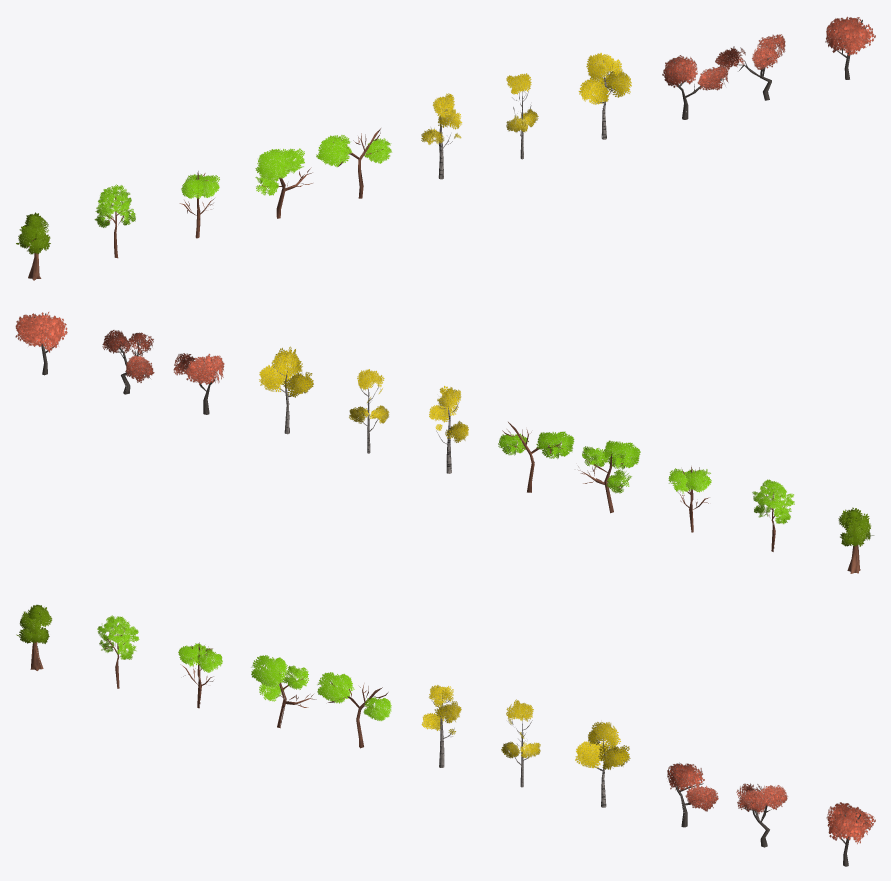
The model's file is trees.glb.
3 views of the same model, one above another, from view 1: azimuth 30°, elevation 25°; view 2: azimuth 150°, elevation 25°; view 3: azimuth 330°, elevation 25° (orthographic).
Parts seen in each view (by area): view 1: birch-2, green-2, green-3, maple-0, maple-1, maple-2, green-0, birch-0, common-0, birch-1, green-1; view 2: green-2, birch-2, maple-1, green-3, maple-2, maple-0, birch-0, green-0, common-0, birch-1, green-1; view 3: birch-2, green-2, green-3, maple-0, maple-2, maple-1, green-0, birch-0, common-0, birch-1, green-1.
Part boxes in pixels (x1,y1,x2,y2): birch-2: [578, 52, 631, 139]; green-2: [255, 148, 312, 218]; green-3: [316, 128, 392, 198]; maple-0: [662, 55, 728, 119]; maple-1: [715, 34, 785, 100]; maple-2: [825, 16, 875, 79]; green-0: [94, 184, 135, 258]; birch-0: [421, 93, 462, 179]; common-0: [16, 212, 50, 280]; birch-1: [506, 73, 538, 159]; green-1: [179, 171, 219, 238]; green-2: [578, 440, 640, 513]; birch-2: [259, 346, 313, 434]; maple-1: [102, 330, 154, 394]; green-3: [498, 422, 574, 492]; maple-2: [15, 311, 67, 375]; maple-0: [173, 353, 224, 414]; birch-0: [429, 385, 468, 473]; green-0: [752, 479, 794, 551]; common-0: [838, 507, 873, 573]; birch-1: [349, 369, 389, 453]; green-1: [668, 466, 711, 532]; birch-2: [575, 720, 630, 807]; green-2: [251, 655, 316, 728]; green-3: [317, 672, 391, 748]; maple-0: [667, 762, 718, 827]; maple-2: [826, 802, 875, 866]; maple-1: [736, 783, 788, 847]; green-0: [97, 615, 139, 688]; birch-0: [421, 685, 461, 767]; common-0: [16, 604, 51, 670]; birch-1: [501, 699, 540, 787]; green-1: [178, 642, 222, 708].
Bounding box in the file's own units: 106 × 10 × 6.76.
8 materials, 8 textured.
